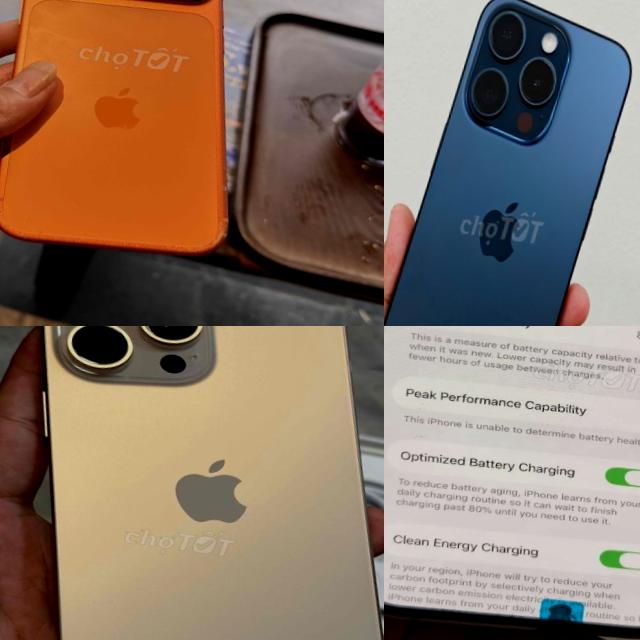gen_12_13: (384, 326, 640, 640)
gen_15: (384, 0, 640, 326)
gen_16: (41, 326, 383, 640)
gen_17: (0, 0, 286, 271)
